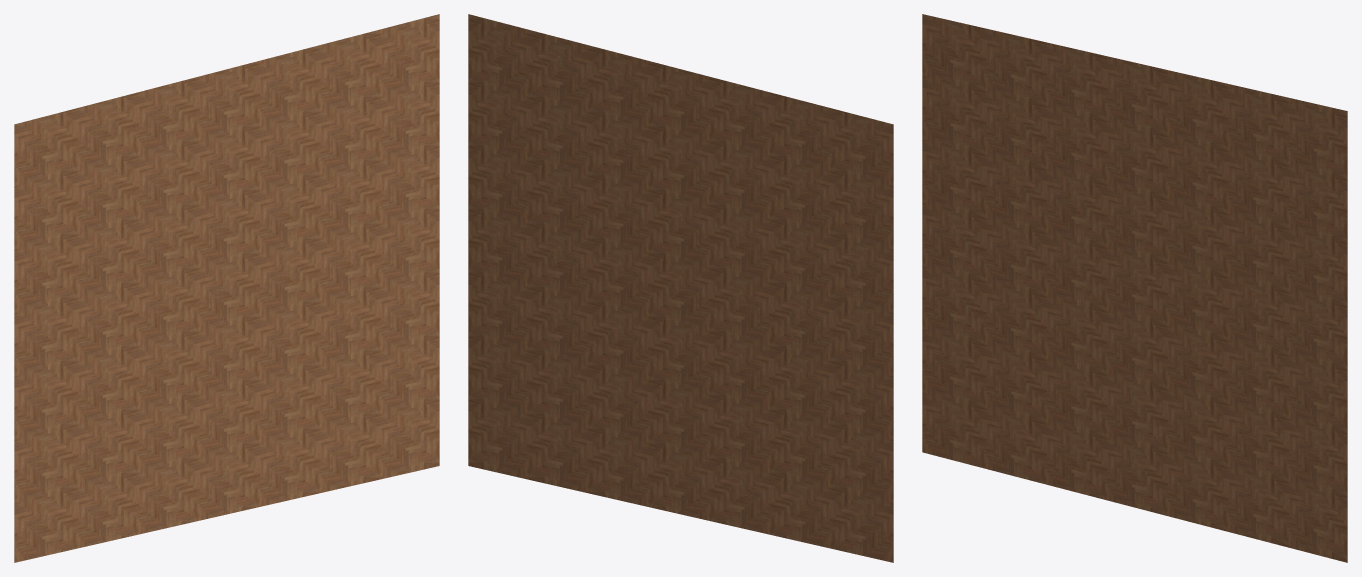
Rendered from piso.obj.
3 renders of one model, left to right at view 1: azimuth 30°, elevation 25°; view 2: azimuth 150°, elevation 25°; view 3: azimuth 330°, elevation 25°, orthographic.
Size of the model in its own units: 75 by 76.1 by 0.
Materials: 1 (1 with a texture image).
